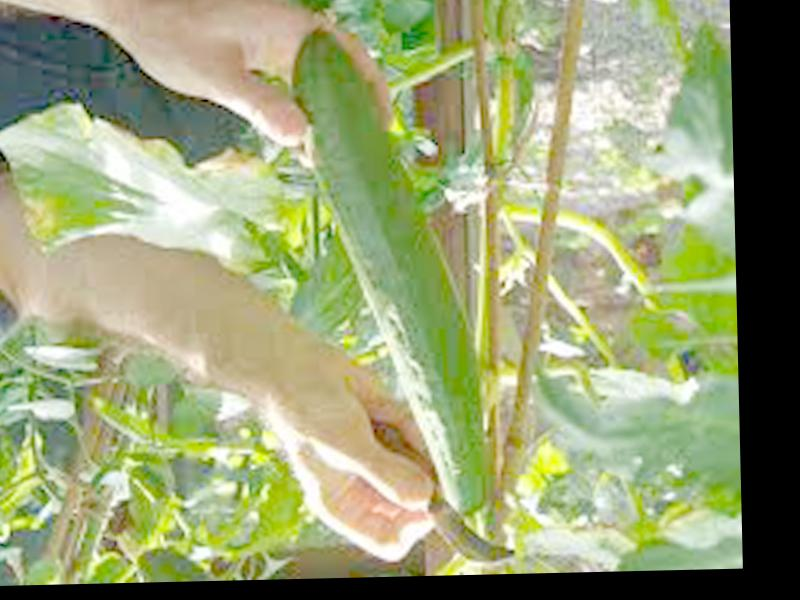Cucumber: (292, 26, 491, 516)
